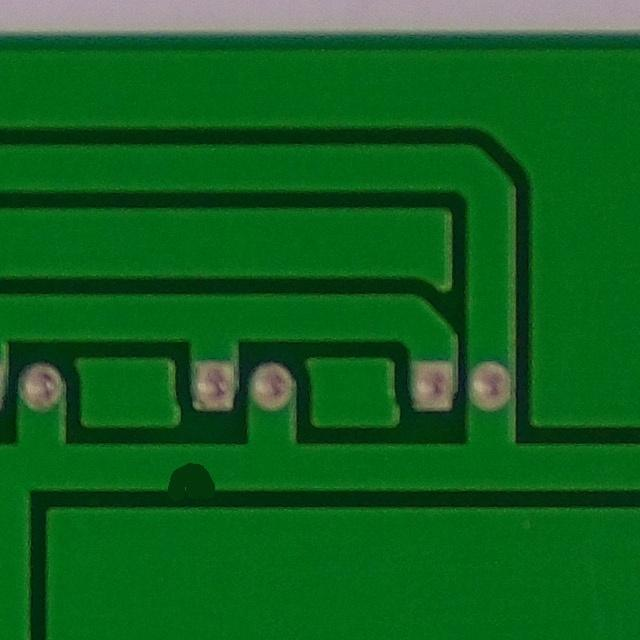mouse_bite: (142, 439, 233, 508)
